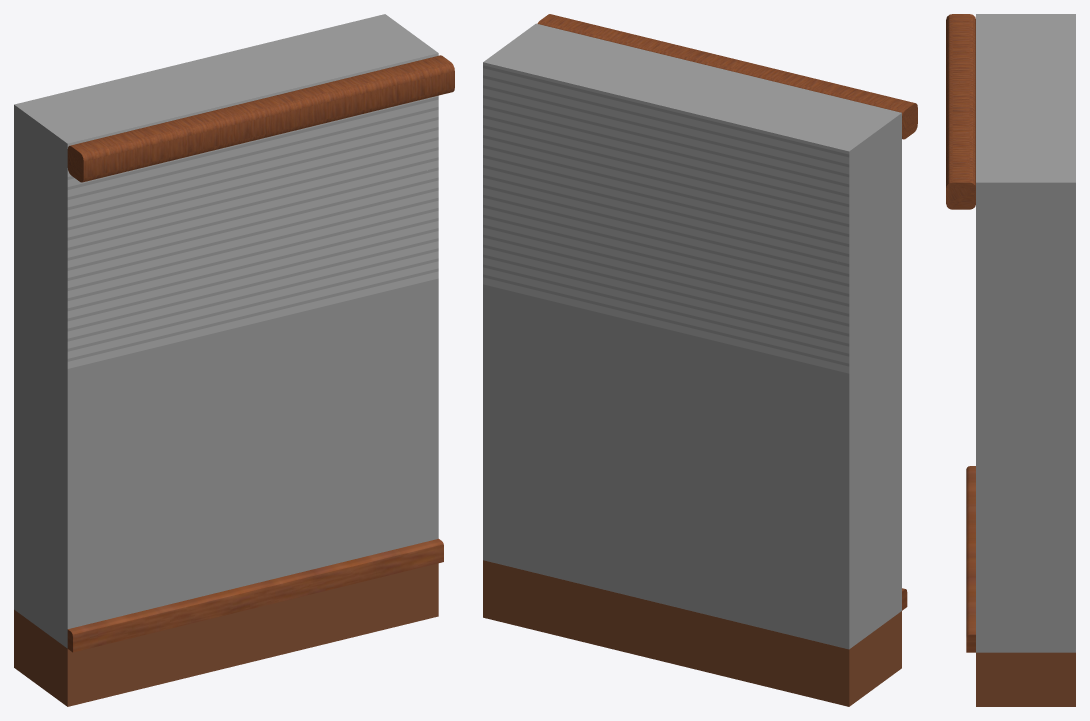
Rendered from Wall_1.fbx.
3 renders of one model, left to right at view 1: azimuth 30°, elevation 25°; view 2: azimuth 150°, elevation 25°; view 3: azimuth 270°, elevation 25°, orthographic. The views are drawn at different scales.
Parts seen in each view (by area): view 1: Wand normal, Cube.002, Balken.001, Rand; view 2: Wand normal, Cube.002, Balken.001; view 3: Wand normal, Balken.001, Cube.002, Rand.
Part boxes in pixels (left/top/right/bottom): Wand normal: left=14, top=14, right=438, bottom=648; Cube.002: left=14, top=563, right=438, bottom=706; Balken.001: left=67, top=55, right=454, bottom=182; Rand: left=67, top=538, right=443, bottom=652; Wand normal: left=483, top=23, right=901, bottom=649; Cube.002: left=483, top=560, right=901, bottom=706; Balken.001: left=537, top=14, right=917, bottom=139; Wand normal: left=976, top=14, right=1075, bottom=652; Balken.001: left=946, top=14, right=975, bottom=209; Cube.002: left=976, top=652, right=1075, bottom=706; Rand: left=966, top=466, right=975, bottom=652.
Size of the model in its own units: 200 by 290 by 65.
